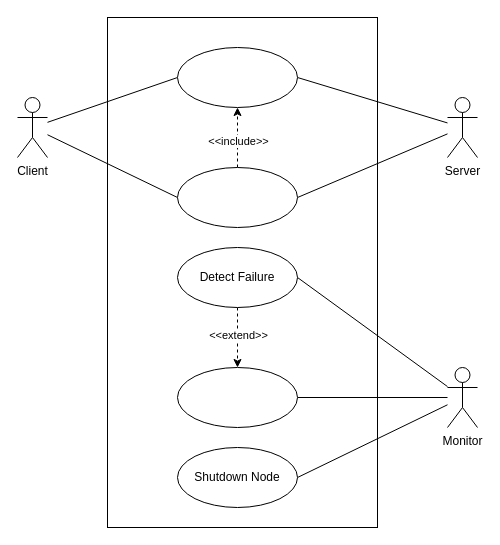
This 500x545 diagram has some shape labels left out. Each missing label, with the box of its shape:
Promote/Demote Server: (176, 366, 298, 428)
Send Heartbeat/Recieve Response: (176, 166, 298, 228)
Submit Data: (176, 46, 298, 108)
